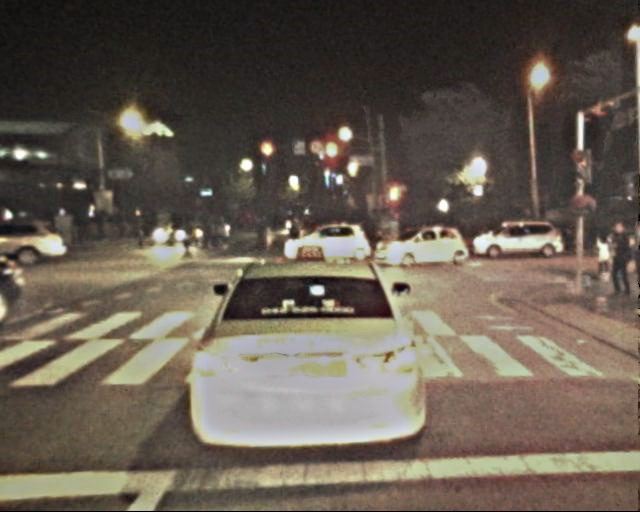person: (601, 222, 631, 294), (590, 230, 611, 280), (198, 218, 229, 247), (135, 215, 150, 252), (251, 213, 266, 250), (284, 220, 304, 246), (177, 218, 190, 249)
